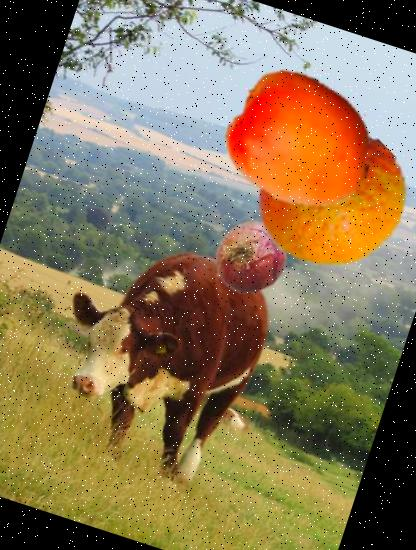Apricot: (208, 47, 392, 232)
Mandarine: (238, 104, 416, 290)
Onion: (202, 209, 298, 306)
